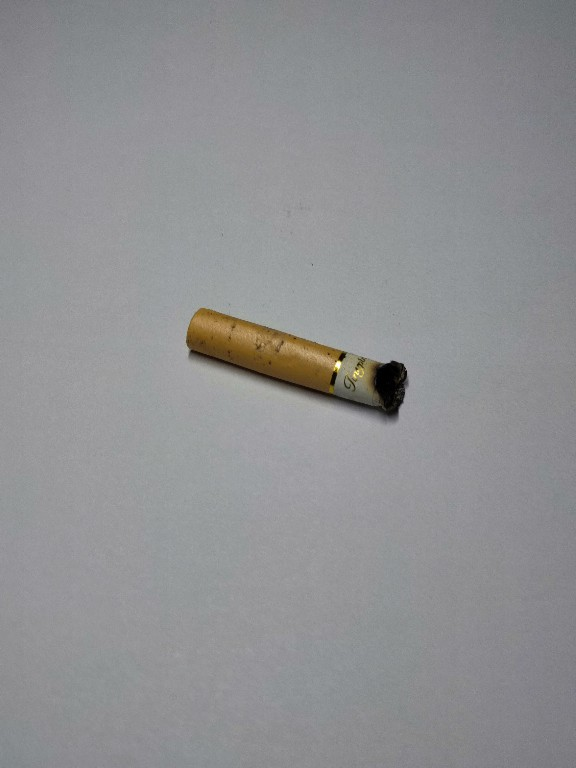cigarette: (180, 299, 412, 426)
